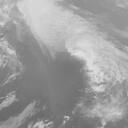cyclone: (44, 36, 115, 99)
